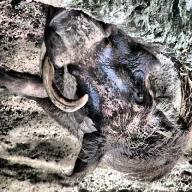boar: (15, 9, 192, 182)
